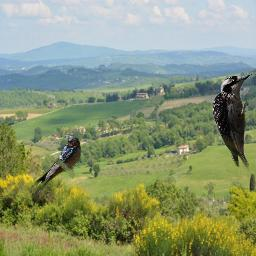Swallow: (34, 137, 81, 197)
Woodpecker: (209, 69, 255, 172)
